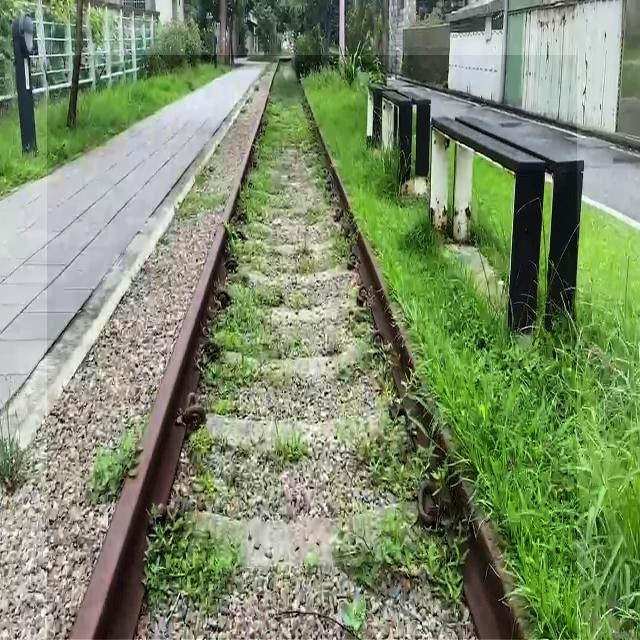rail: (49, 57, 578, 640)
